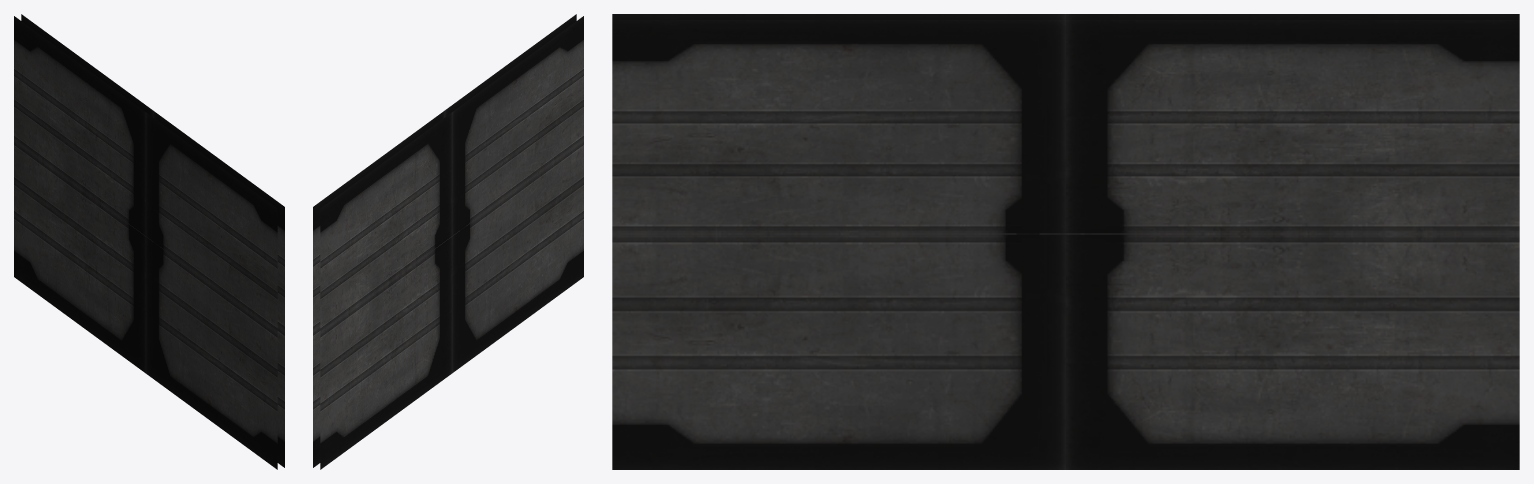
Rendered from p6_metal_panel_railing_64_lod2.glb.
The picture shows the model from 3 angles, left to right: view 1: azimuth 30°, elevation 25°; view 2: azimuth 150°, elevation 25°; view 3: azimuth 270°, elevation 25°; orthographic projection. The views are drawn at different scales.
Parts seen in each view (by area): view 1: surf0; view 2: surf0; view 3: surf0.
Boxes of the visible parts, bbox=[...] form: surf0: bbox=[14, 14, 284, 469]; surf0: bbox=[313, 14, 583, 469]; surf0: bbox=[612, 14, 1519, 469].
Bounding box in the file's own units: 1.03 × 35 × 64.
